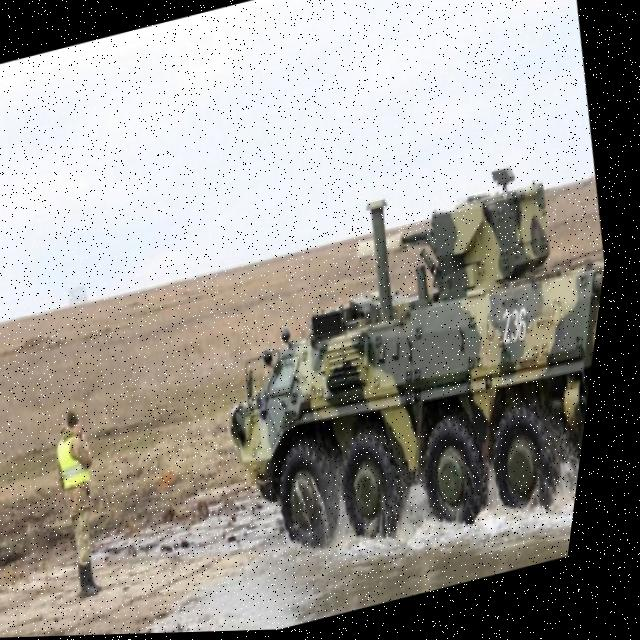MIL_APC: (181, 167, 622, 575)
